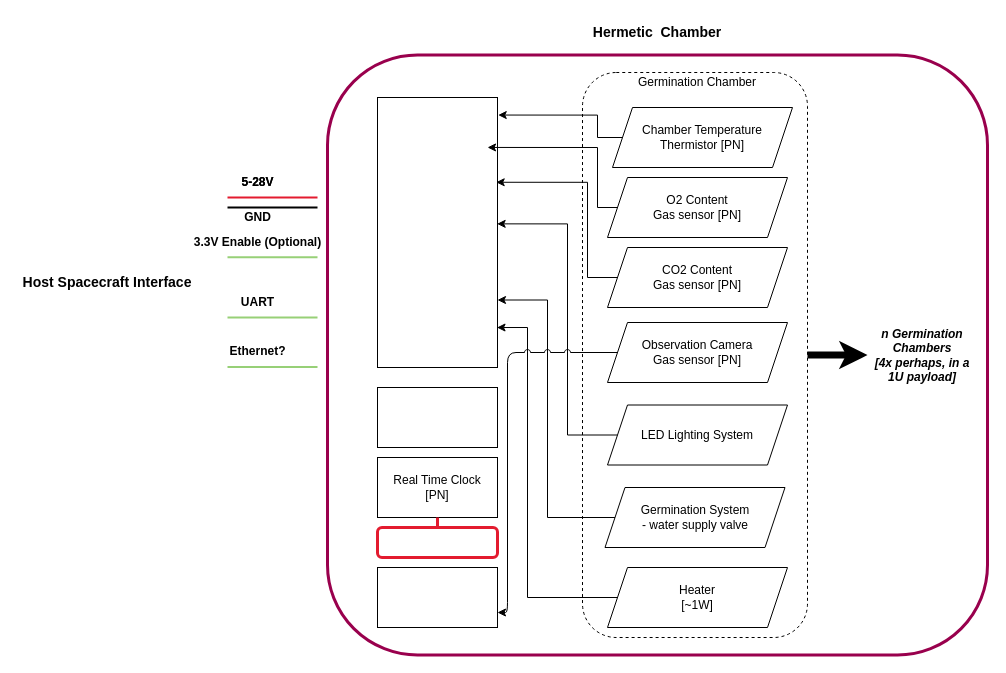
The diagram is 1006 pixels wide and 673 high, and some of its shapes have lost their labels. Here are the shapes that lost their labels. From the top down, the centre of each, then its label:
the point at 437,232: MCU
the point at 437,417: Voltage Regulator [5V?]
the point at 437,542: 3.3V Coin Cell [PN]
the point at 437,597: Micoprocessor [PN]
